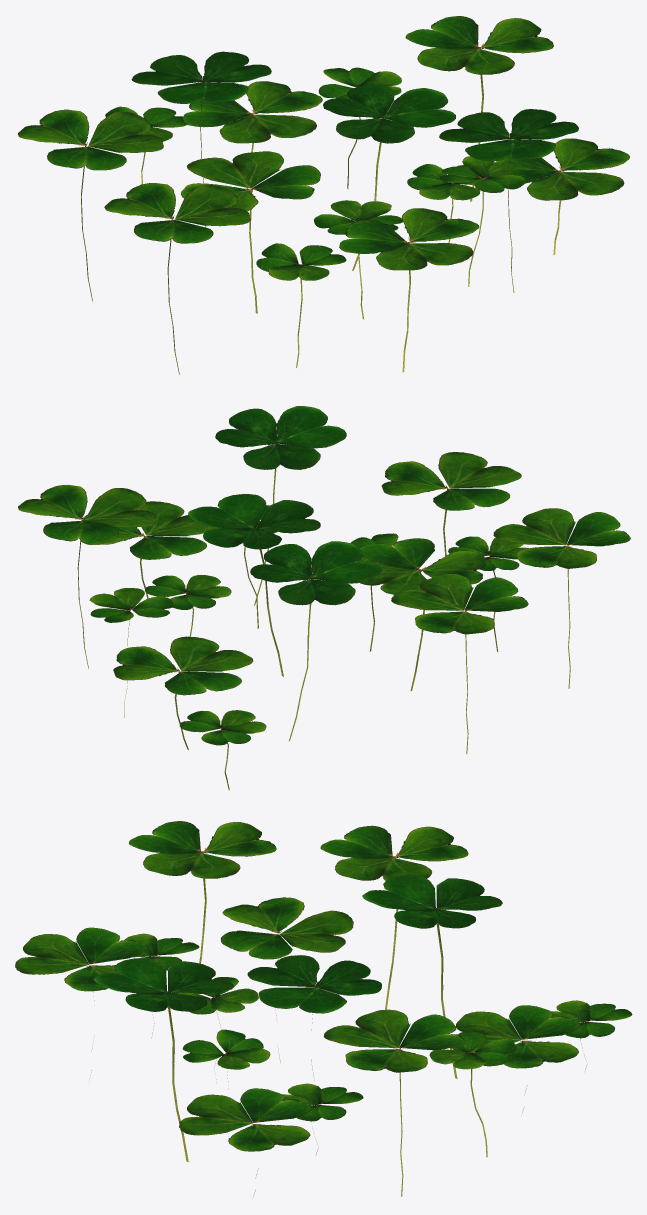
The model's file is Clovers_LOD0.fbx.
3 renders of one model, top to bottom at view 1: azimuth 30°, elevation 25°; view 2: azimuth 150°, elevation 25°; view 3: azimuth 270°, elevation 25°, orthographic. The views are drawn at different scales.
Visible parts, largest first — view 1: Clovers_LOD0; view 2: Clovers_LOD0; view 3: Clovers_LOD0.
Boxes of the visible parts, box(x1,y1,x2,y2) form: Clovers_LOD0: box(18, 16, 629, 374); Clovers_LOD0: box(18, 406, 630, 790); Clovers_LOD0: box(15, 821, 632, 1196).
Size of the model in its own units: 0.4667 by 0.1518 by 0.4726.
